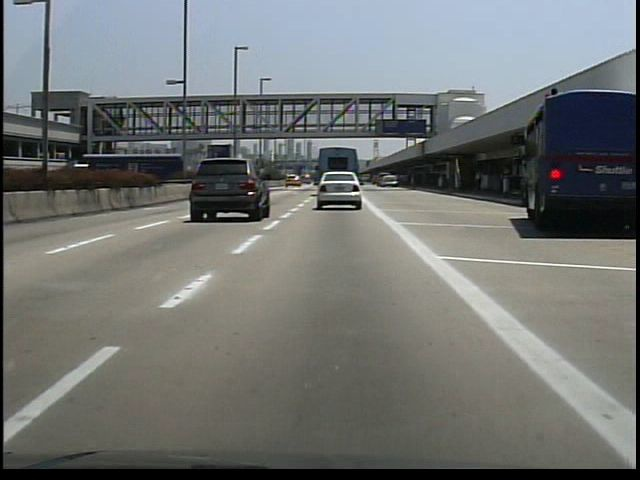person: (468, 164, 488, 201)
